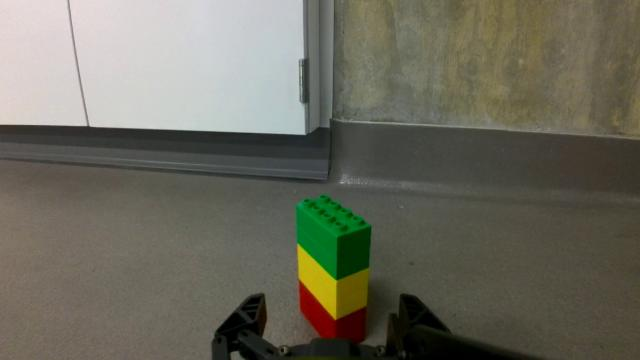lego: (292, 189, 376, 345)
